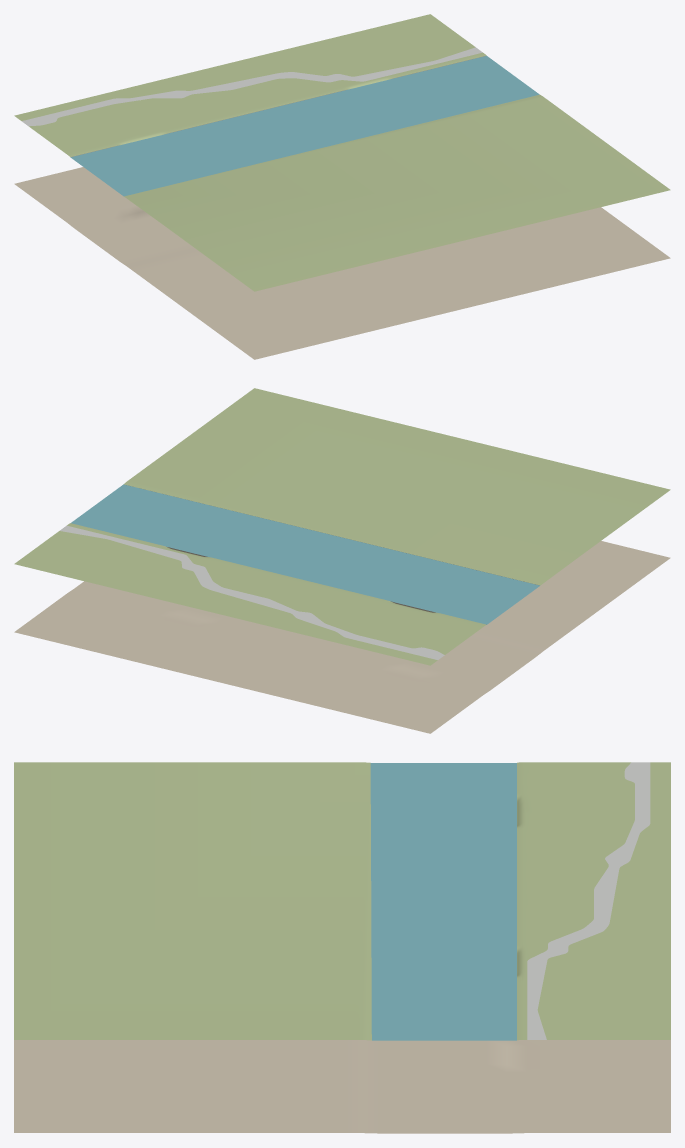
3 views of the same model, one above another, from view 1: azimuth 30°, elevation 25°; view 2: azimuth 150°, elevation 25°; view 3: azimuth 270°, elevation 25° (orthographic). The views are drawn at different scales.
Visible parts, largest first — view 1: s_-10_6__grass, s_-10_6__soil, s_-10_6__water, s_-10_6__stone_paving; view 2: s_-10_6__grass, s_-10_6__soil, s_-10_6__water, s_-10_6__stone_paving; view 3: s_-10_6__grass, s_-10_6__soil, s_-10_6__water, s_-10_6__stone_paving.
Part boxes in pixels (bbox=[...]): s_-10_6__grass: bbox=[14, 14, 670, 291]; s_-10_6__soil: bbox=[14, 167, 670, 359]; s_-10_6__water: bbox=[70, 56, 539, 196]; s_-10_6__stone_paving: bbox=[22, 47, 482, 126]; s_-10_6__grass: bbox=[14, 388, 670, 665]; s_-10_6__soil: bbox=[14, 541, 670, 733]; s_-10_6__water: bbox=[71, 484, 539, 624]; s_-10_6__stone_paving: bbox=[59, 525, 444, 659]; s_-10_6__grass: bbox=[14, 762, 670, 1040]; s_-10_6__soil: bbox=[14, 1040, 670, 1133]; s_-10_6__water: bbox=[370, 763, 516, 1040]; s_-10_6__stone_paving: bbox=[527, 762, 650, 1039].
Size of the model in its own units: 128 by 20.19 by 128.
